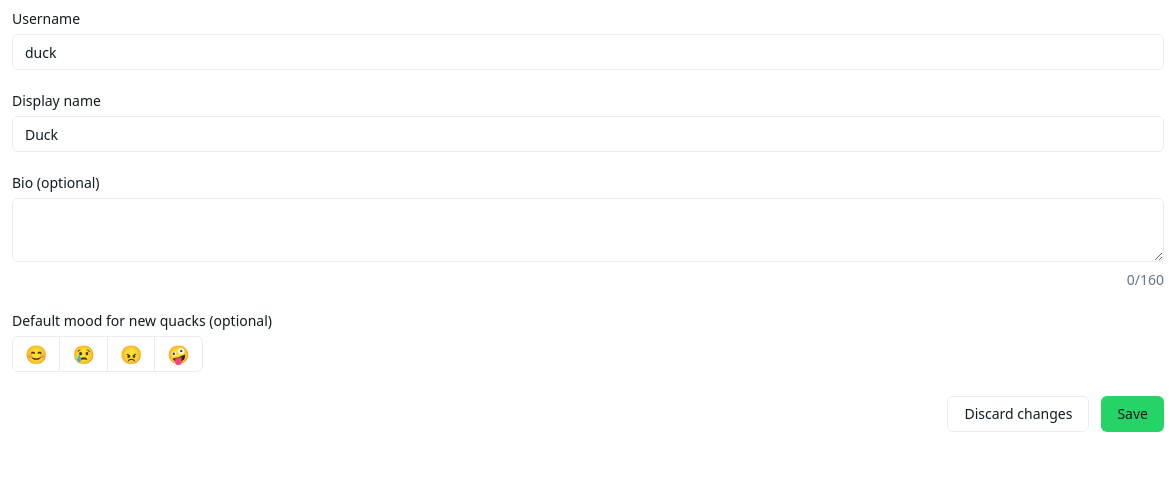
SettingsForm › shows a taken username next to the field and keeps what was typed
The width and height of the screenshot is (1176, 480).
Replace the text in the field labelled "Username" with "mallard". click: x=588, y=52
box: [12,34,1164,70]
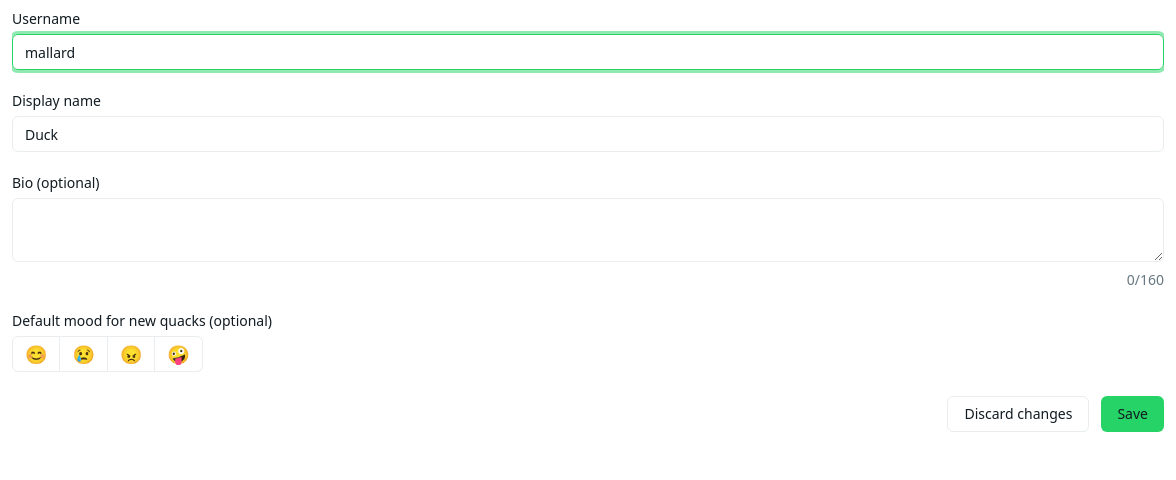
Click the button "Save". click: x=1133, y=414
box: [1101,396,1164,432]
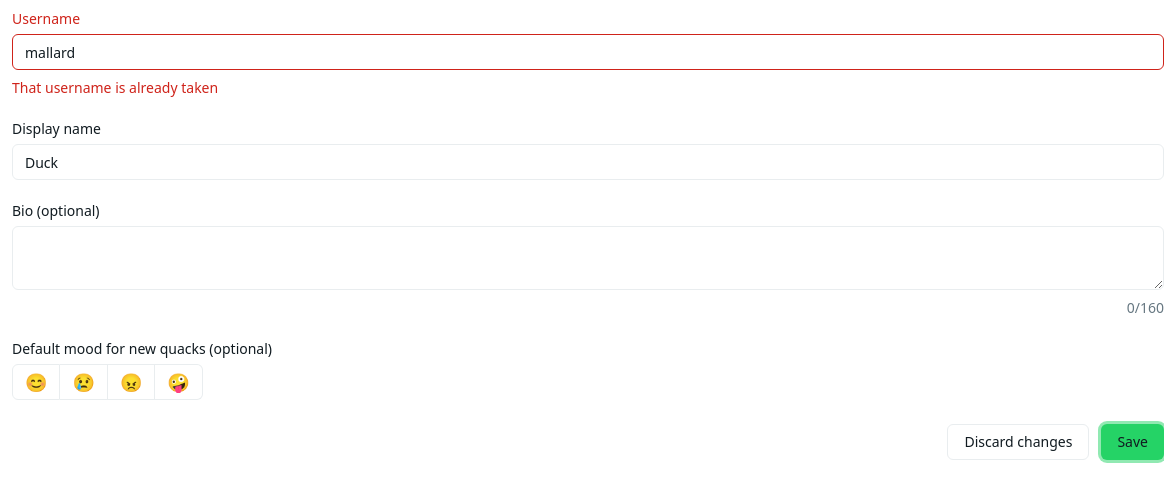
Expected: the text "That username is already taken" is shown, [12,78,218,97]
